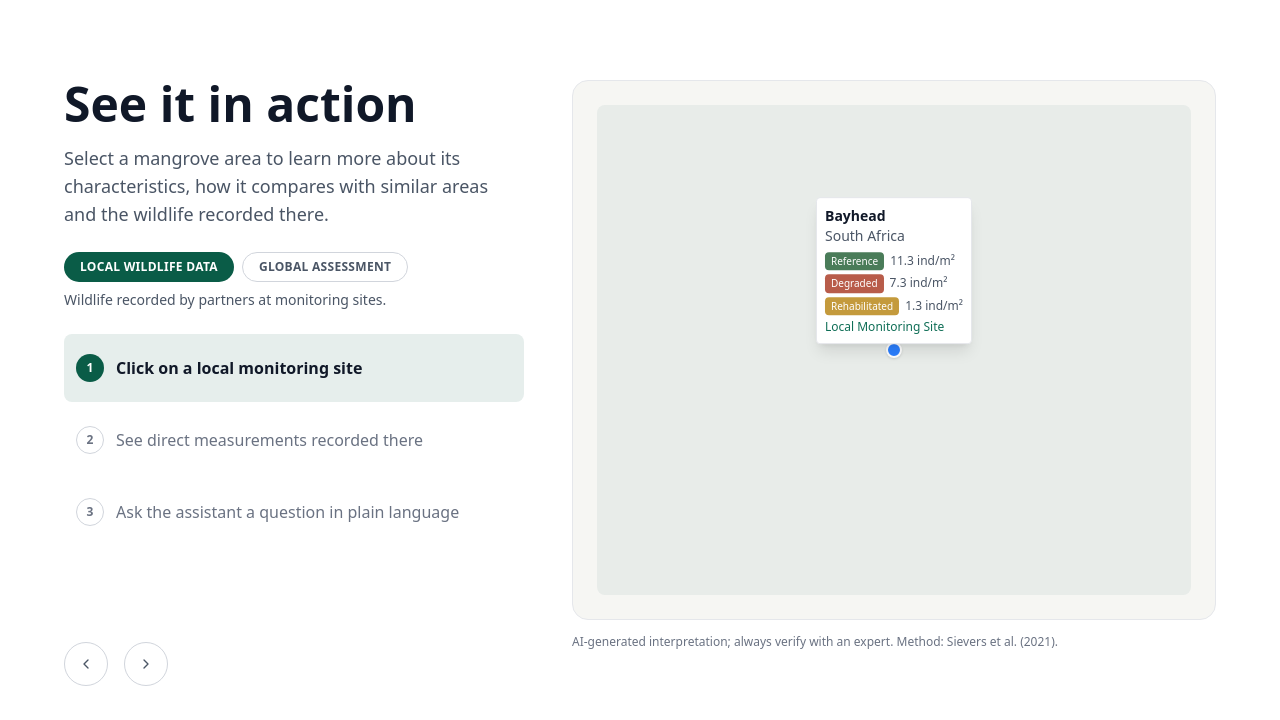
showcase analytics › shows the local widget without live controls
Click the button "2 See direct measurements recorded there" at point(294, 440), box [64,406,524,474]
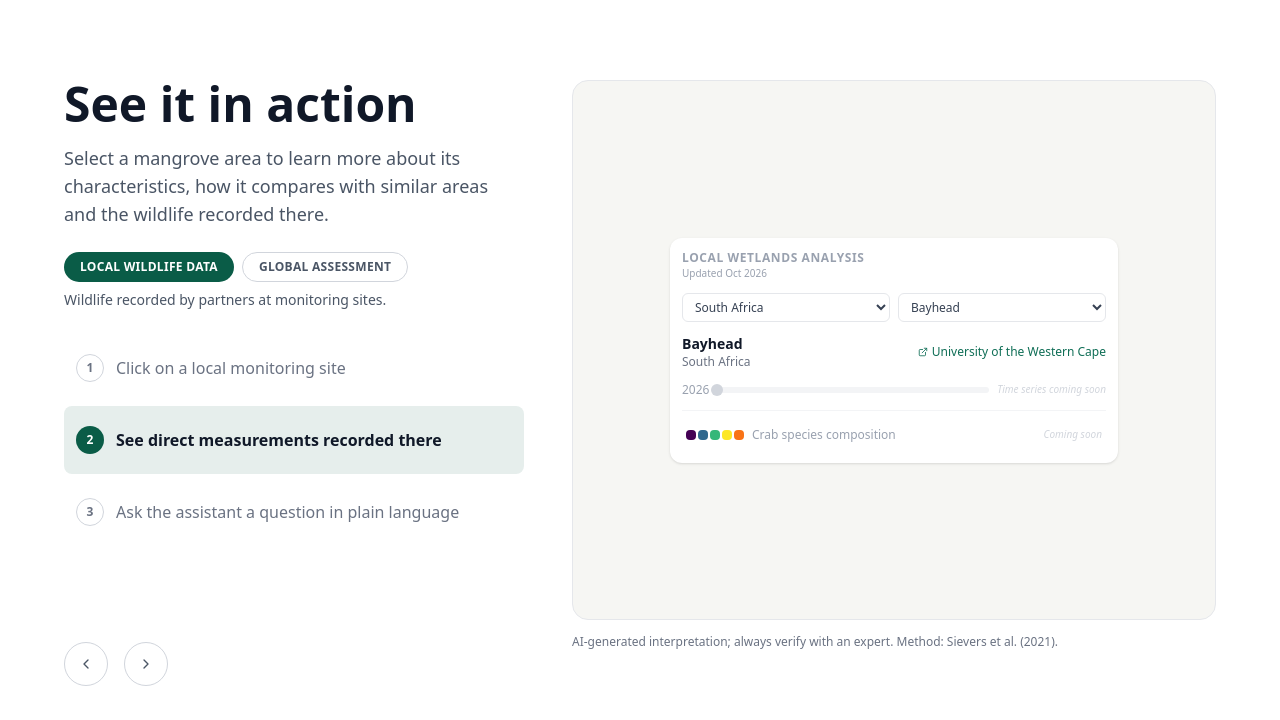
Expected: the dropdown named "Country" is disabled, [682,292,890,322]
Expected: the dropdown named "Monitoring location" is disabled, [898,292,1106,322]
